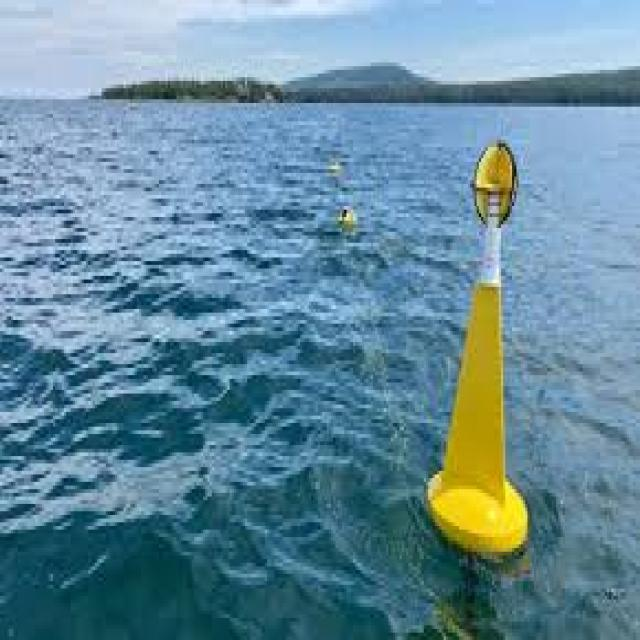buoy: (421, 135, 537, 579)
